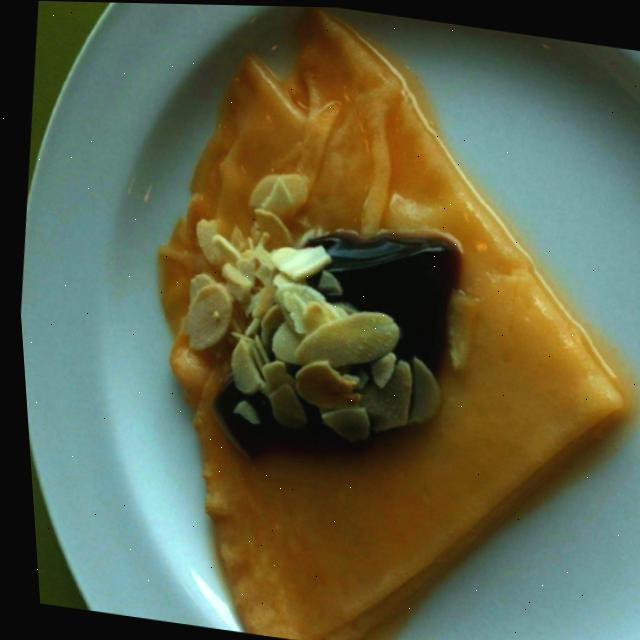蛋糕甜品: (67, 1, 640, 640)
